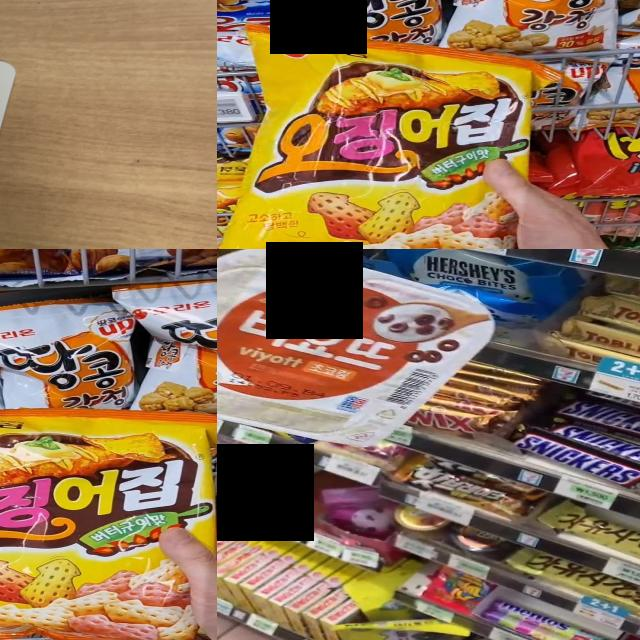bYott: (217, 249, 494, 446)
ozingZip: (217, 38, 526, 249), (0, 421, 217, 640)
